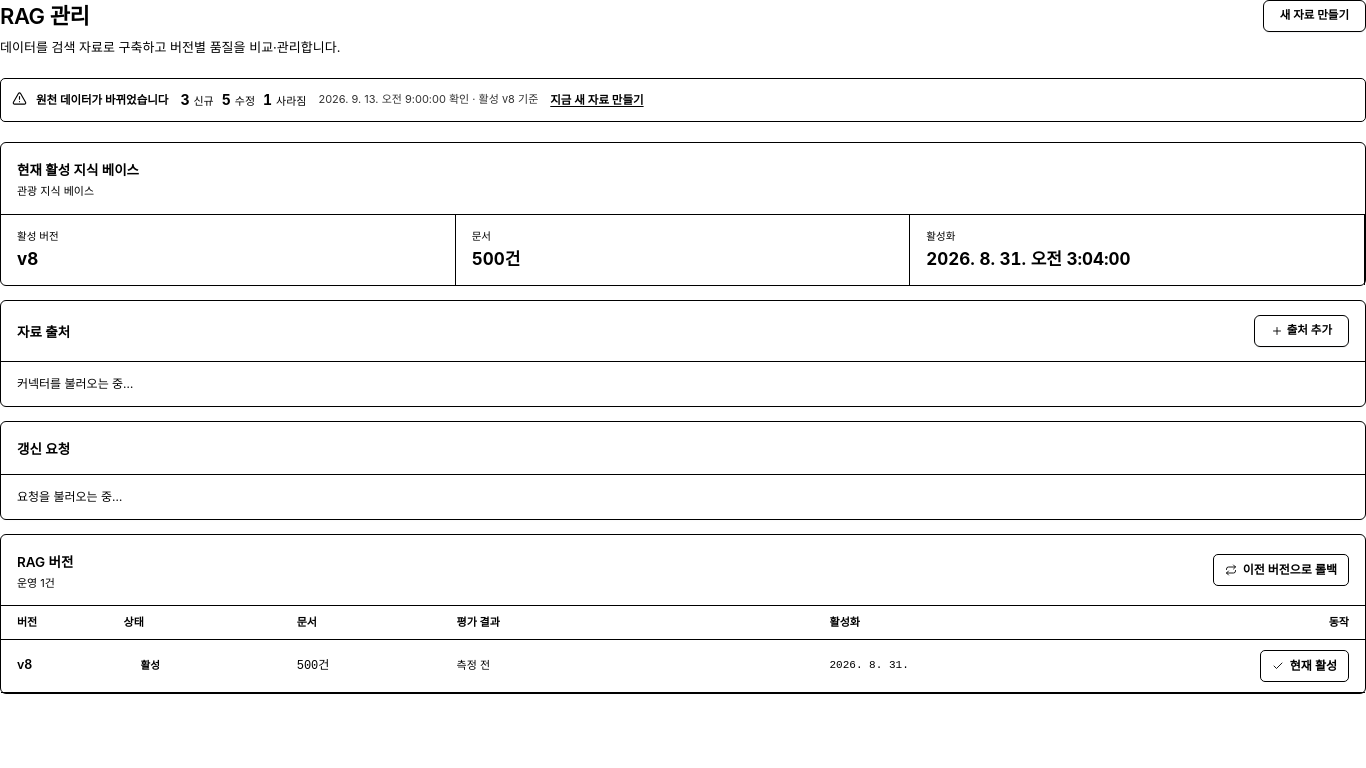
Scenario: a super admin gets the build action inside the alert
The width and height of the screenshot is (1366, 768).
Click the button "지금 새 자료 만들기": (597, 100) [550, 91, 644, 109]
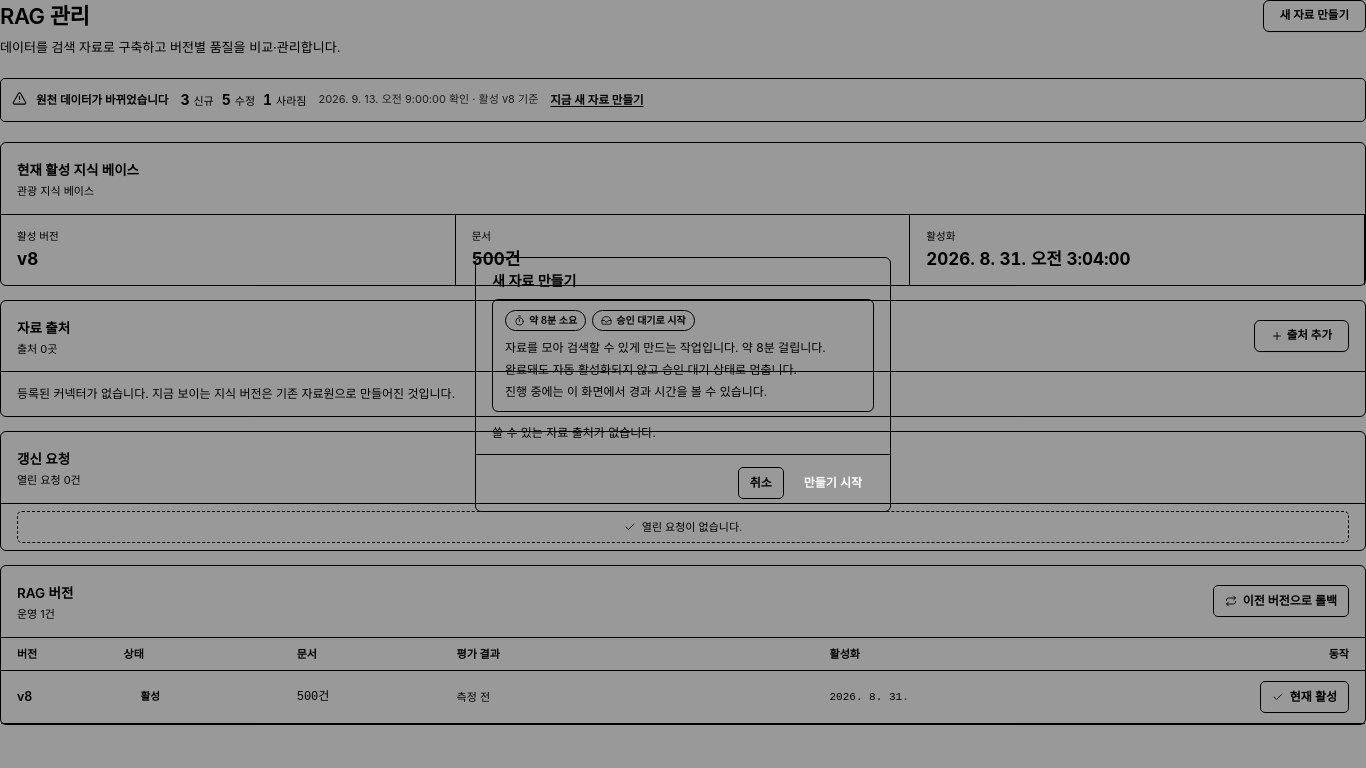
Result: the button "만들기 시작" is shown at [792, 466, 874, 498]
